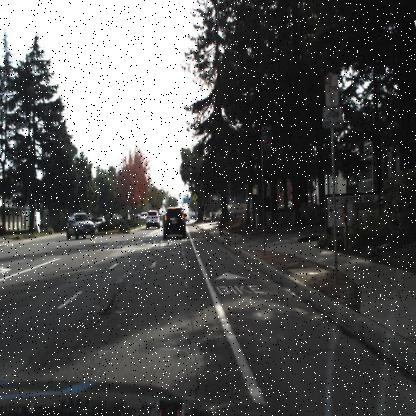car: (64, 210, 97, 239), (163, 205, 186, 240), (144, 210, 161, 230)
